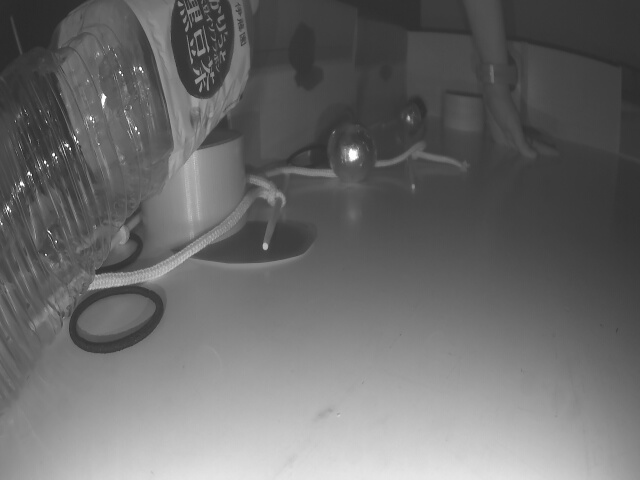Live: (331, 118, 373, 183), (400, 101, 420, 132)
